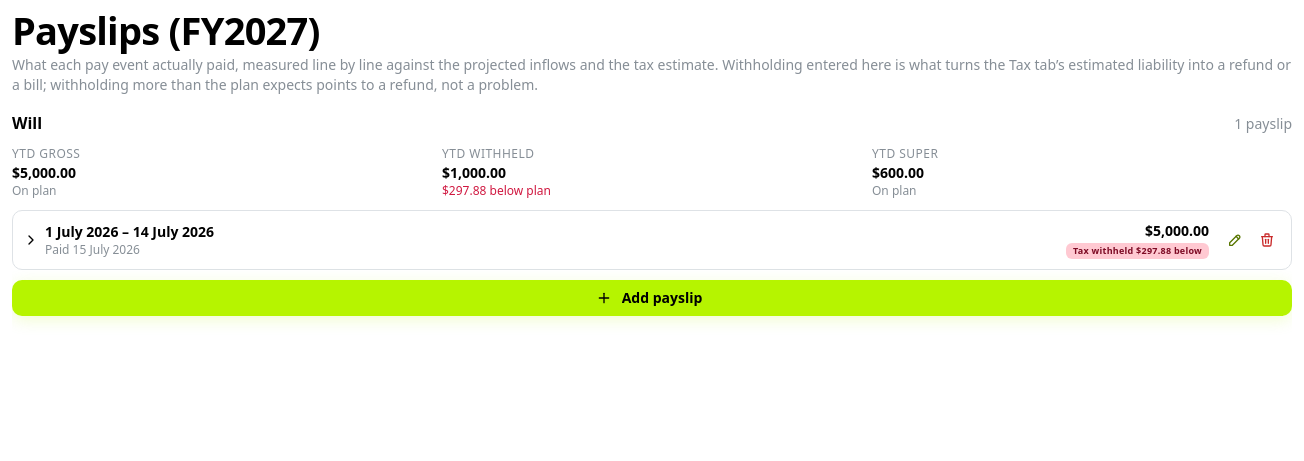
PayslipsScreen › folds a card away again
Click the button "1 July 2026 – 14 July 2026" at (130, 231), box [23,221,1209,260]
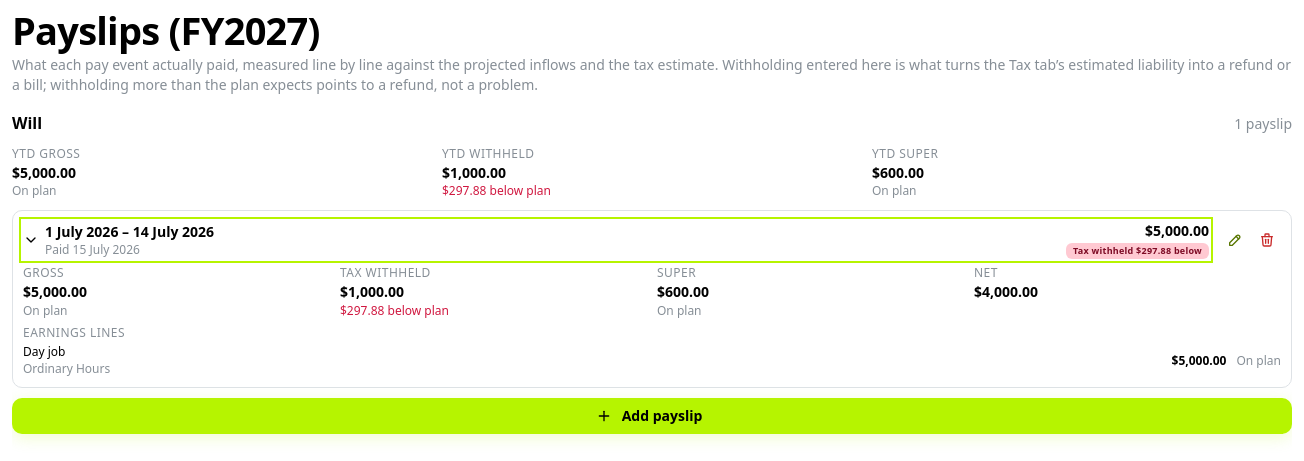
Click the button "1 July 2026 – 14 July 2026" at (130, 231), box [23,221,1209,260]
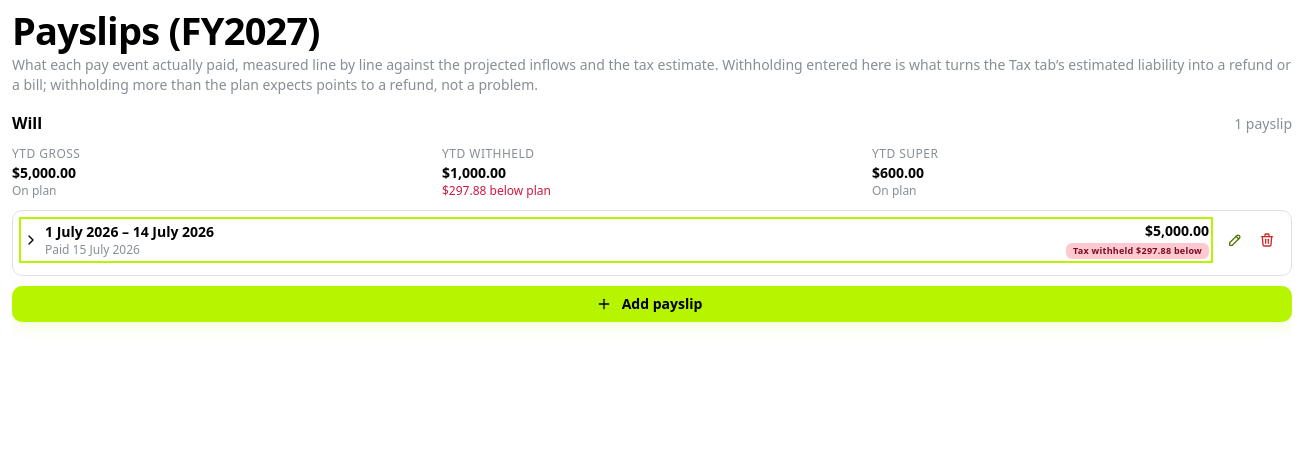
Expected: the button "1 July 2026 – 14 July 2026" is collapsed, [23,221,1209,260]
